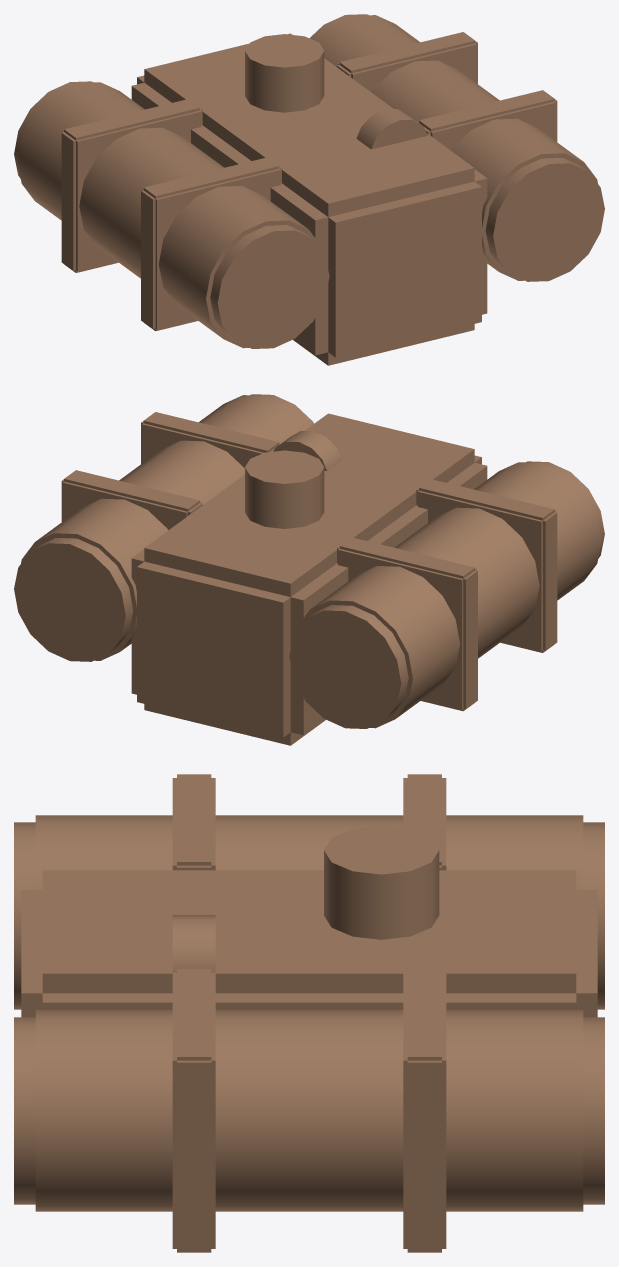
Rendered from flamethrower_body.glb.
The picture shows the model from 3 angles, top to bottom: view 1: azimuth 30°, elevation 25°; view 2: azimuth 150°, elevation 25°; view 3: azimuth 270°, elevation 25°; orthographic projection. The views are drawn at different scales.
Parts seen in each view (by area): view 1: flamethrower_body; view 2: flamethrower_body; view 3: flamethrower_body.
Part boxes in pixels (<box>): flamethrower_body: <box>14,14,604,365</box>; flamethrower_body: <box>14,394,604,745</box>; flamethrower_body: <box>14,774,604,1252</box>.
Size of the model in its own units: 0.47 by 0.235 by 0.41.
